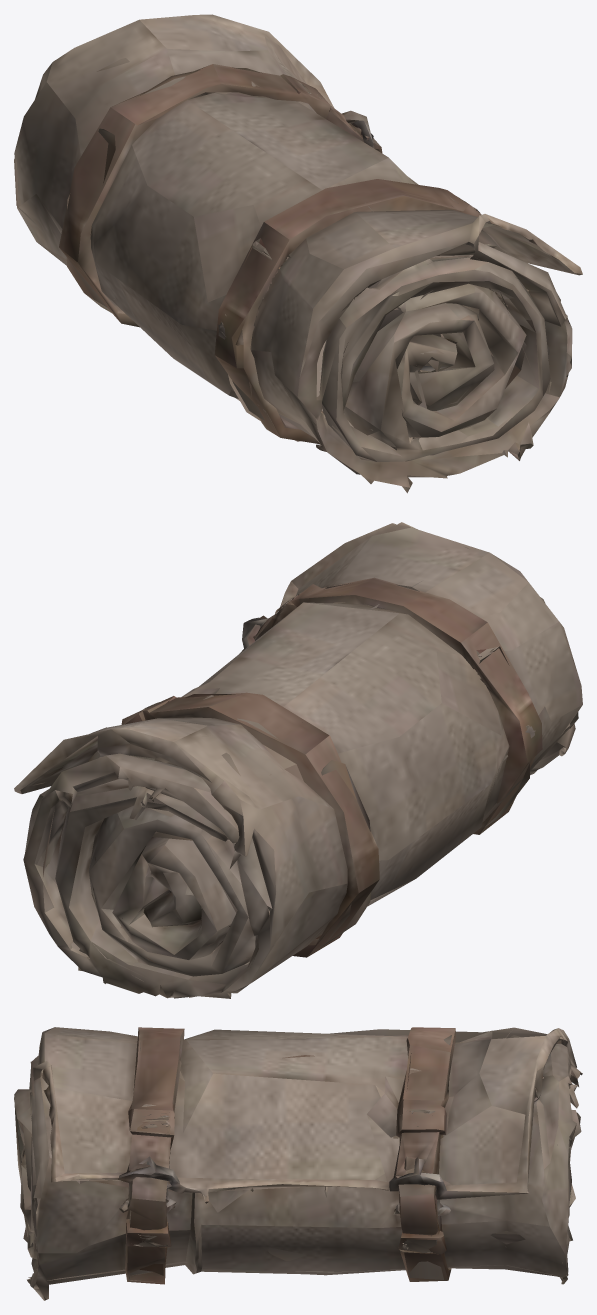
The picture shows the model from 3 angles, top to bottom: view 1: azimuth 30°, elevation 25°; view 2: azimuth 150°, elevation 25°; view 3: azimuth 270°, elevation 25°; orthographic projection. The views are drawn at different scales.
Visible parts, largest first — view 1: geometry_0; view 2: geometry_0; view 3: geometry_0.
Part boxes in pixels (x1=…): geometry_0: x1=14, y1=14, x2=582, y2=493; geometry_0: x1=14, y1=522, x2=582, y2=998; geometry_0: x1=14, y1=1027, x2=582, y2=1300.
Size of the model in its own units: 0.4464 by 0.3522 by 0.809.
1 material, 1 textured.
